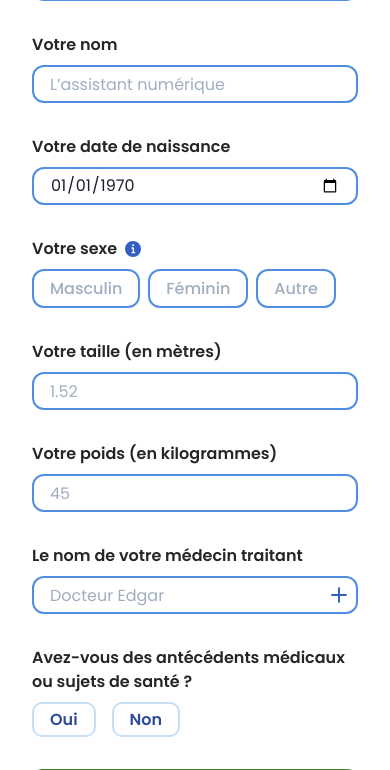
Test case: Personal Info Page tests - Mobile › Working page › Error states › Bad size (too big)
This screenshot has width=390, height=770.
(page scrolled)
Type "5" into the number field with id "edgar-onboardingPersonalPage-formSize-input". click: (195, 391)
box: [32,372,358,410]
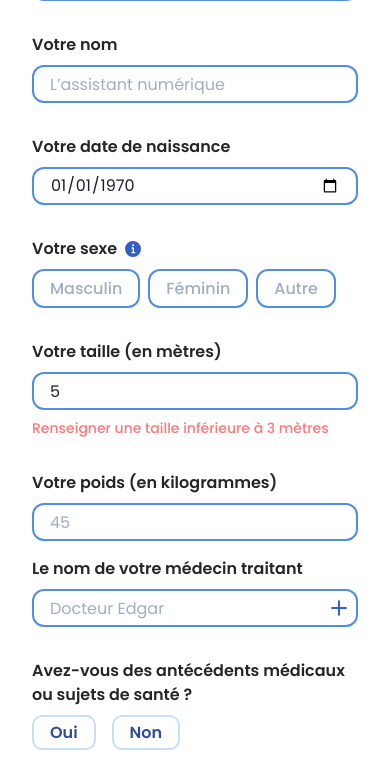
Now the text with id "edgar-onboardingPersonalPage-formSizeErrorMax-text" reads "Renseigner une taille inférieure à 3 mètres", box [32,418,329,439]
